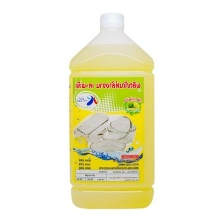cleaning_solution: (64, 8, 158, 211)
